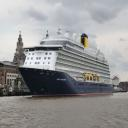cruises: (15, 25, 116, 100)
